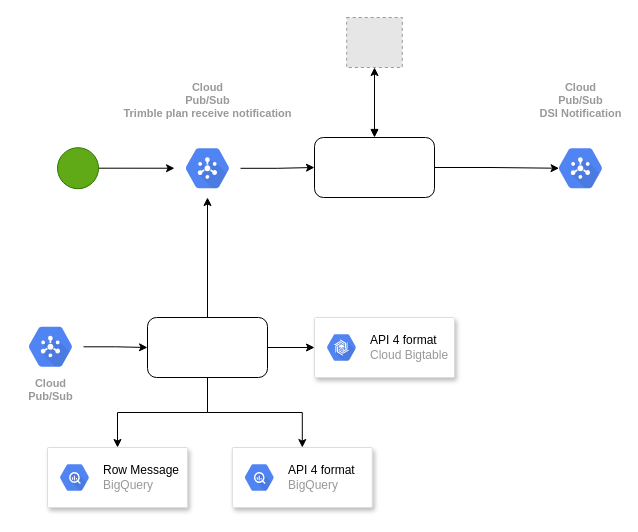
The diagram is 638 pixels wide and 532 high, and some of its shapes have lost their labels. Grey dashed boxes stand in for pictures. Here are the shapes that lost their labels. From the top down, the centre of each, then its label:
At pixel 374 167: "Monitoring Service".
At pixel 207 347: "ETL Service".
